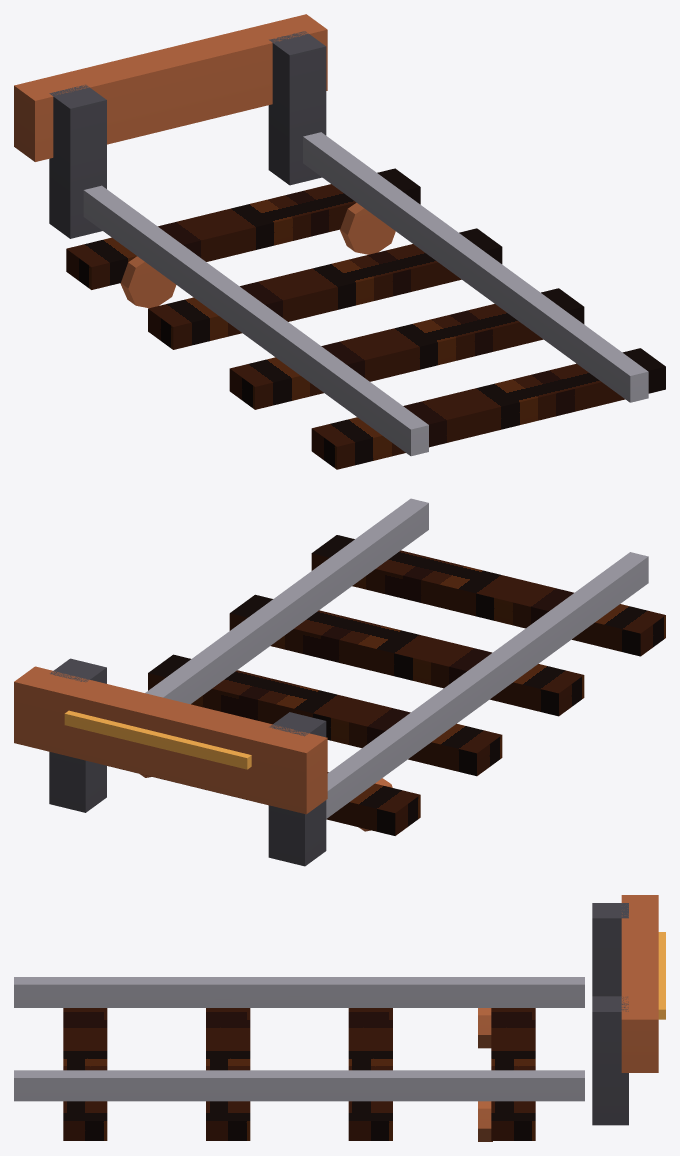
The model's file is rail_end.glb.
3 renders of one model, top to bottom at view 1: azimuth 30°, elevation 25°; view 2: azimuth 150°, elevation 25°; view 3: azimuth 270°, elevation 25°, orthographic. The views are drawn at different scales.
Parts seen in each view (by area): view 1: rail_end; view 2: rail_end; view 3: rail_end.
Part boxes in pixels (x1,y1,x2,y2): rail_end: [14, 14, 665, 469]; rail_end: [14, 498, 665, 866]; rail_end: [14, 895, 665, 1141].
Bounding box in the file's own units: 0.9 × 0.41 × 1.77.
Materials: 3 (1 with a texture image).
